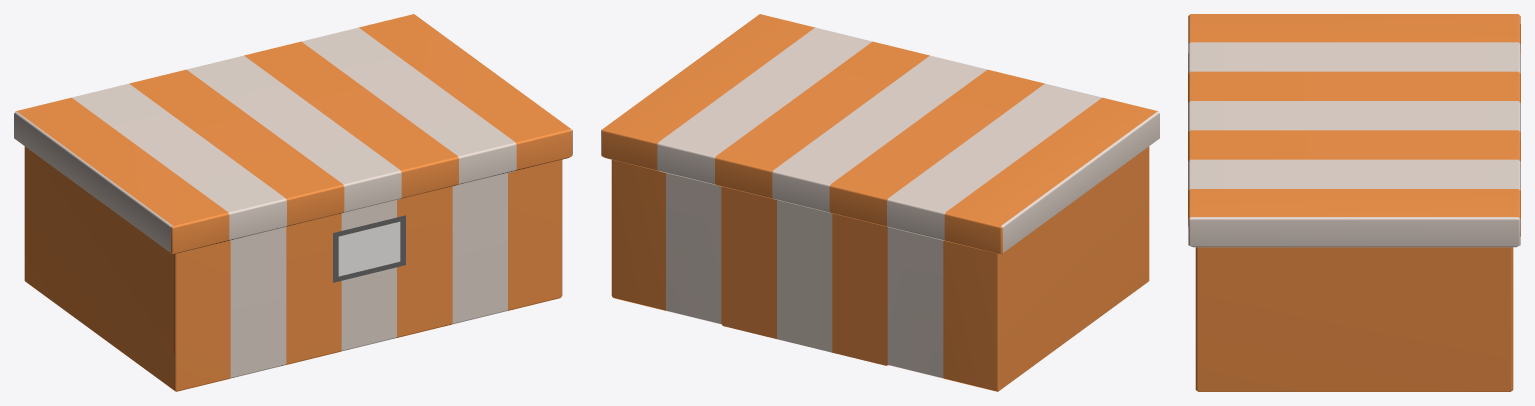
Rendered from Storage_box_5.glb.
The picture shows the model from 3 angles, left to right: view 1: azimuth 30°, elevation 25°; view 2: azimuth 150°, elevation 25°; view 3: azimuth 270°, elevation 25°; orthographic projection. The views are drawn at different scales.
Visible parts, largest first — view 1: Storage_box_5; view 2: Storage_box_5; view 3: Storage_box_5.
Part boxes in pixels (x1,y1,x2,y2): Storage_box_5: (14,14,572,391); Storage_box_5: (601,14,1159,391); Storage_box_5: (1188,14,1520,391).
Size of the model in its own units: 0.3462 by 0.1403 by 0.2372.
Materials: 1 (1 with a texture image).
